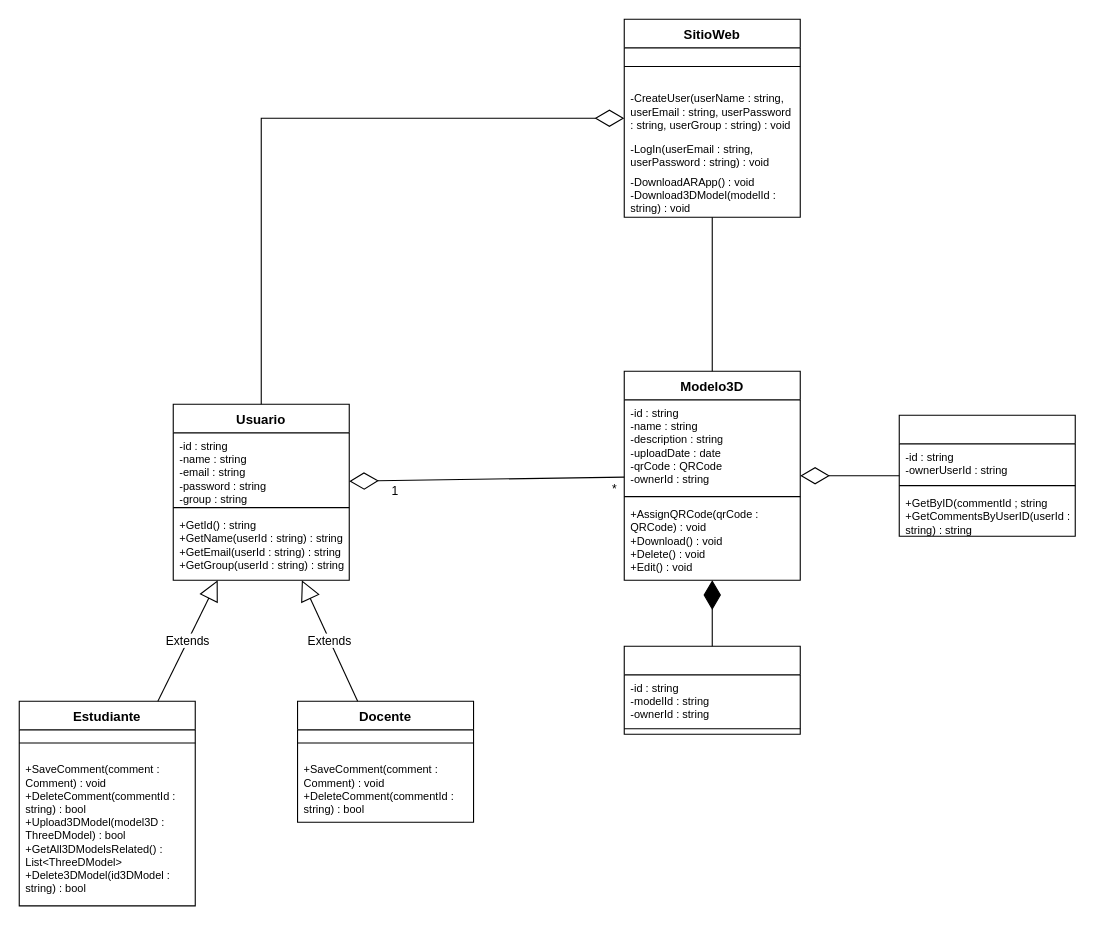
This 1095x928 diagram has some shape labels left out. The box of each missing label's shape, as (x1, y1, x2, y2) in pixels:
Comentario: (898, 414, 1075, 536)
QRCode: (623, 645, 800, 734)
